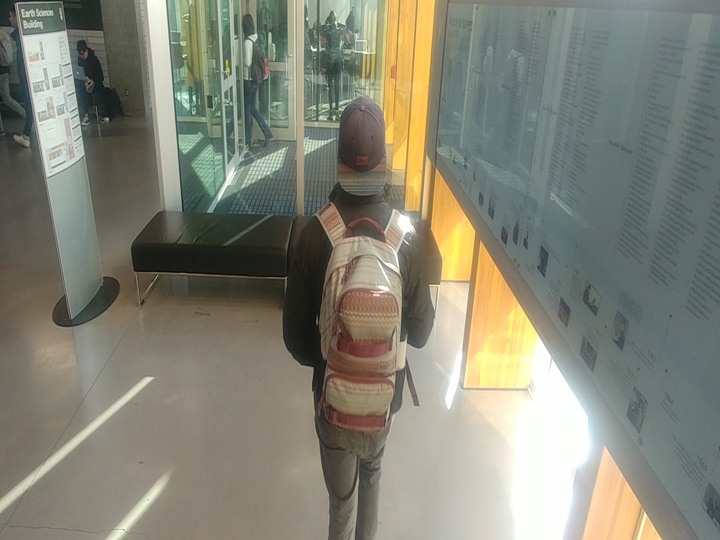face: (333, 89, 397, 210), (232, 10, 261, 43), (71, 35, 95, 64), (324, 7, 344, 32), (2, 7, 20, 31)
human: (276, 87, 445, 540), (235, 11, 276, 151), (71, 37, 118, 127), (322, 5, 347, 123)
